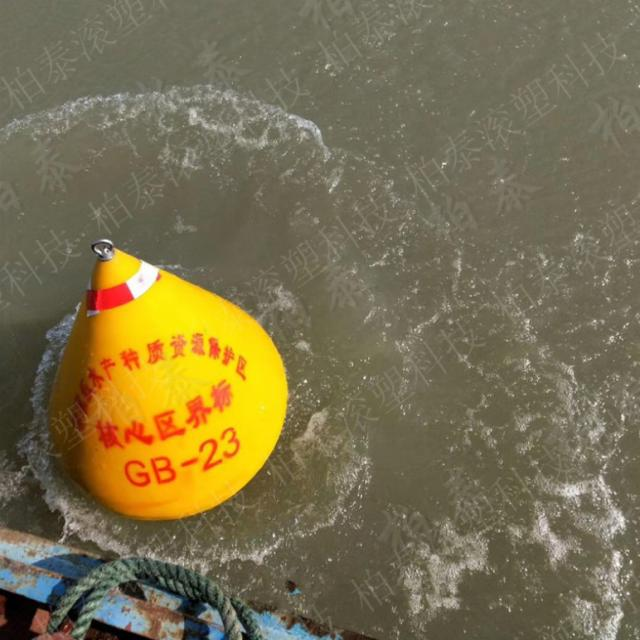buoy: (50, 232, 294, 532)
